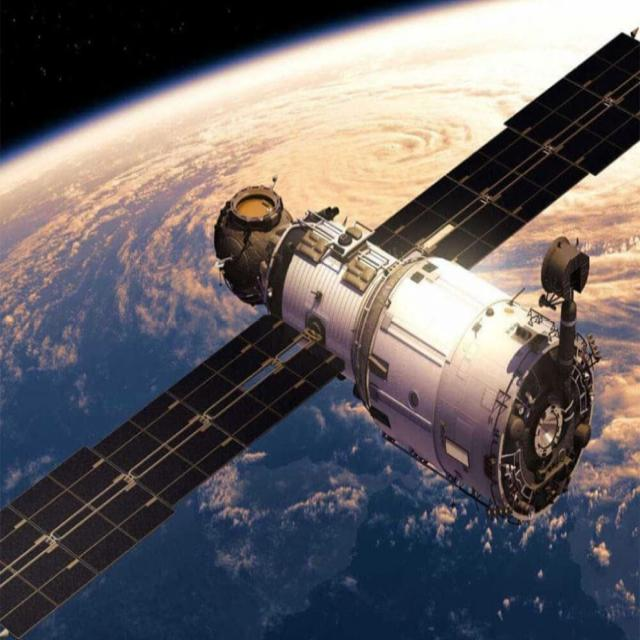medium_debris: (0, 19, 640, 610)
